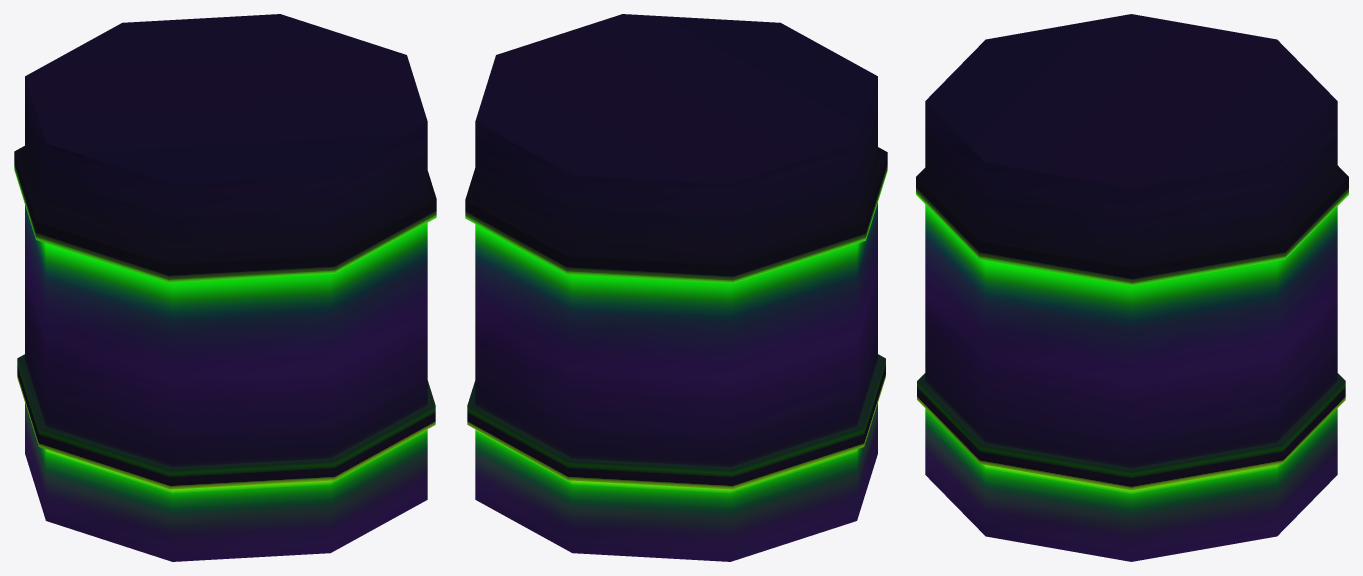
File: urban_cylinder.gltf
3 renders of one model, left to right at view 1: azimuth 30°, elevation 25°; view 2: azimuth 150°, elevation 25°; view 3: azimuth 270°, elevation 25°, orthographic.
Visible parts, largest first — view 1: urban_cylinder_glb; view 2: urban_cylinder_glb; view 3: urban_cylinder_glb.
Part boxes in pixels (x1,y1,x2,y2): urban_cylinder_glb: (14,14,436,561); urban_cylinder_glb: (465,14,887,561); urban_cylinder_glb: (916,14,1348,561).
Size of what is drawn, in the model's own units: 1.08 by 1.03 by 1.08.
Materials: 1 (1 with a texture image).
